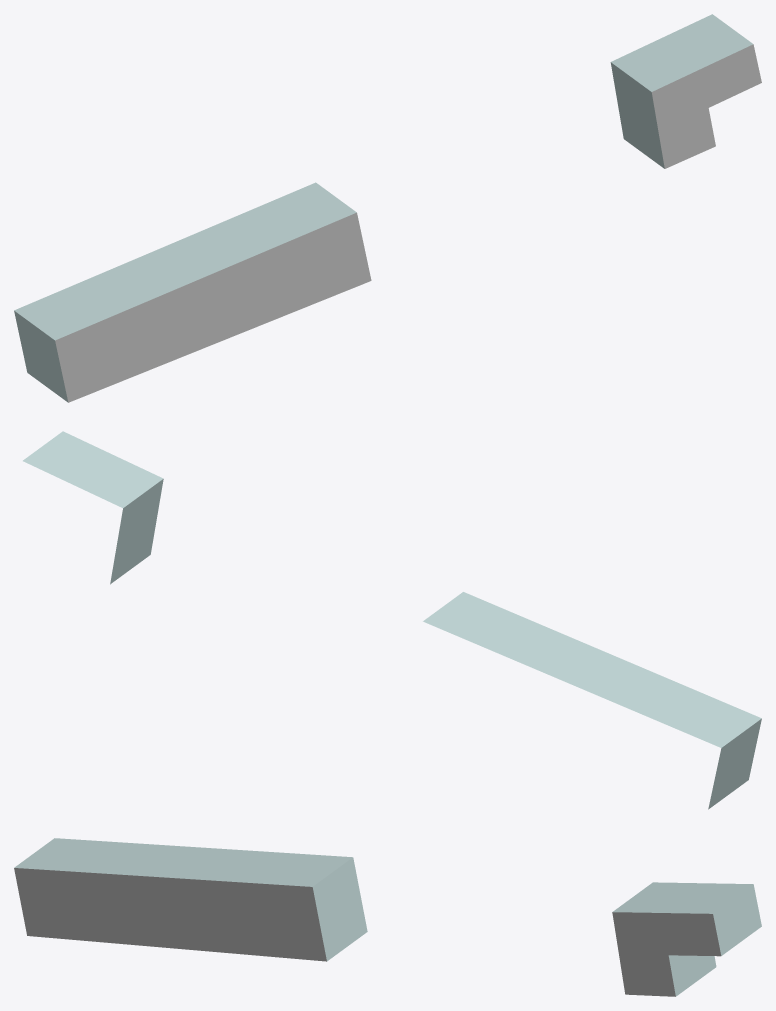
The picture shows the model from 3 angles, top to bottom: view 1: azimuth 30°, elevation 25°; view 2: azimuth 150°, elevation 25°; view 3: azimuth 330°, elevation 25°; orthographic projection.
Parts seen in each view (by area): view 1: 0_2_2_1_0_3_1_1_3; view 2: 0_2_2_1_0_3_1_1_3; view 3: 0_2_2_1_0_3_1_1_3.
Boxes of the visible parts, left/top/right/bottom form: 0_2_2_1_0_3_1_1_3: left=14, top=14, right=761, bottom=402; 0_2_2_1_0_3_1_1_3: left=23, top=431, right=761, bottom=809; 0_2_2_1_0_3_1_1_3: left=14, top=838, right=761, bottom=996.
Bounding box in the file's own units: 29.98 × 7.55 × 3.3.
